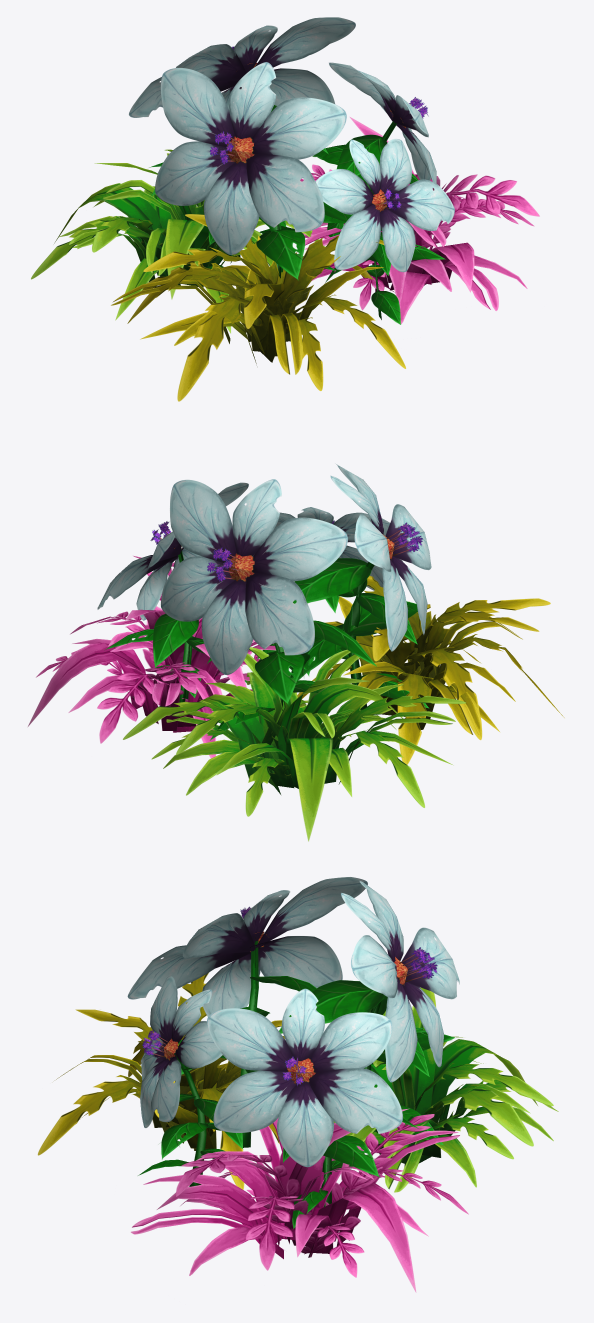
Rendered from jardin_low_poly.glb.
The picture shows the model from 3 angles, top to bottom: view 1: azimuth 30°, elevation 25°; view 2: azimuth 150°, elevation 25°; view 3: azimuth 270°, elevation 25°; orthographic projection. The views are drawn at different scales.
Parts seen in each view (by area): view 1: Object_4, Object_7, Object_2, Object_5, Object_6, Object_3; view 2: Object_4, Object_5, Object_3, Object_7, Object_6, Object_2; view 3: Object_4, Object_6, Object_2, Object_5, Object_3, Object_7.
Part boxes in pixels (x1=…): Object_4: x1=155, y1=17, x2=436, y2=272; Object_7: x1=111, y1=214, x2=405, y2=401; Object_2: x1=129, y1=25, x2=454, y2=232; Object_5: x1=31, y1=149, x2=324, y2=333; Object_6: x1=300, y1=117, x2=539, y2=323; Object_3: x1=149, y1=46, x2=445, y2=324; Object_4: x1=136, y1=464, x2=427, y2=674; Object_5: x1=123, y1=647, x2=465, y2=841; Object_3: x1=105, y1=520, x2=429, y2=740; Object_7: x1=297, y1=575, x2=564, y2=764; Object_6: x1=28, y1=556, x2=289, y2=758; Object_2: x1=97, y1=475, x2=431, y2=655; Object_4: x1=140, y1=877, x2=443, y2=1167; Object_6: x1=131, y1=1108, x2=468, y2=1292; Object_2: x1=127, y1=890, x2=459, y2=1133; Object_5: x1=333, y1=987, x2=558, y2=1192; Object_3: x1=138, y1=906, x2=455, y2=1228; Object_7: x1=37, y1=973, x2=284, y2=1189.
Bounding box in the file's own units: 22.86 × 13.38 × 22.18.
Materials: 6 (6 with a texture image).
